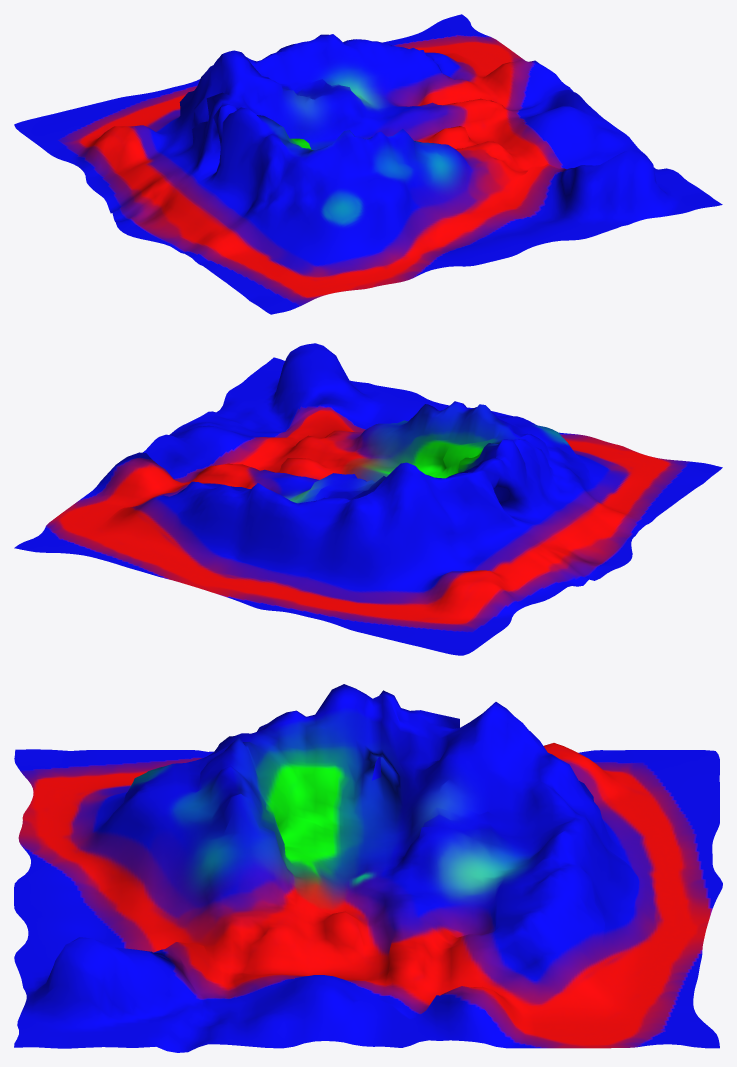
The model's file is TerrainShape.dae.
3 renders of one model, top to bottom at view 1: azimuth 30°, elevation 25°; view 2: azimuth 150°, elevation 25°; view 3: azimuth 270°, elevation 25°, orthographic. The views are drawn at different scales.
Parts seen in each view (by area): view 1: Terrain; view 2: Terrain; view 3: Terrain.
Part boxes in pixels (bbox=[...]): Terrain: bbox=[14, 14, 722, 314]; Terrain: bbox=[14, 343, 722, 655]; Terrain: bbox=[14, 684, 722, 1052].
Bounding box in the file's own units: 1424 × 312 × 1353.
